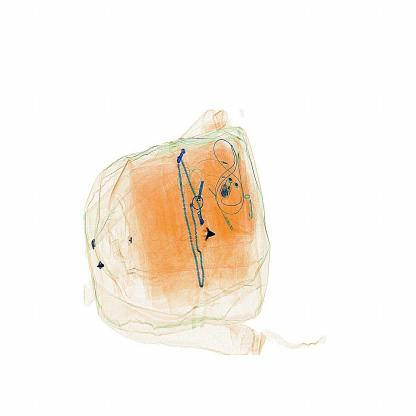gun: (191, 213, 219, 249)
